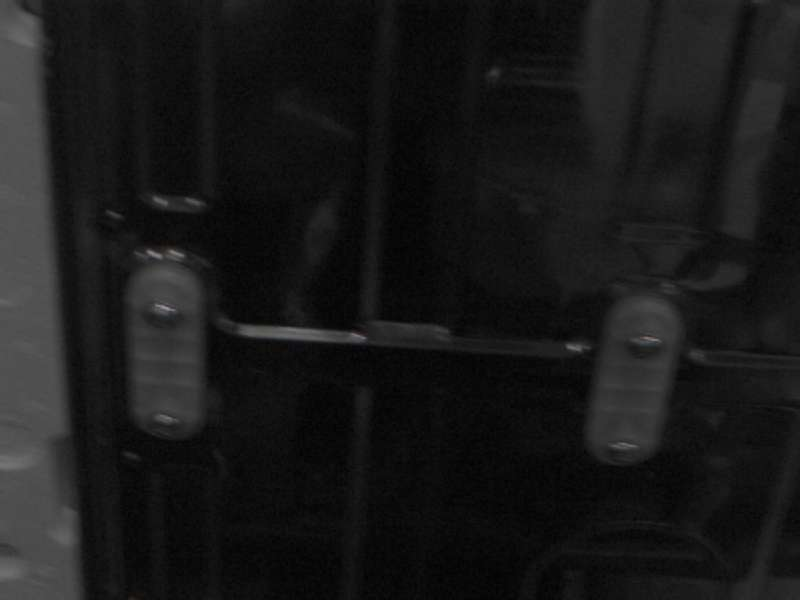screw: (143, 301, 182, 328), (627, 334, 664, 358), (149, 412, 182, 438), (607, 441, 641, 465)
